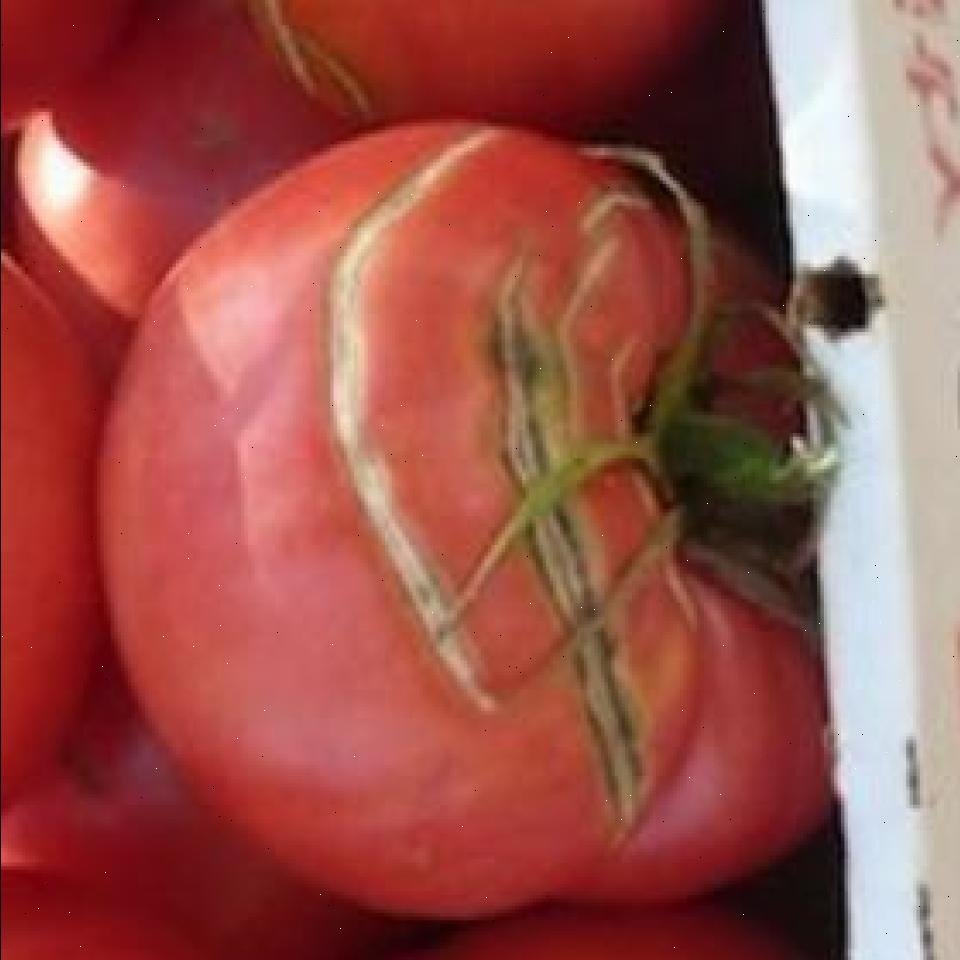Cracking: (458, 246, 664, 852), (322, 124, 500, 726)
